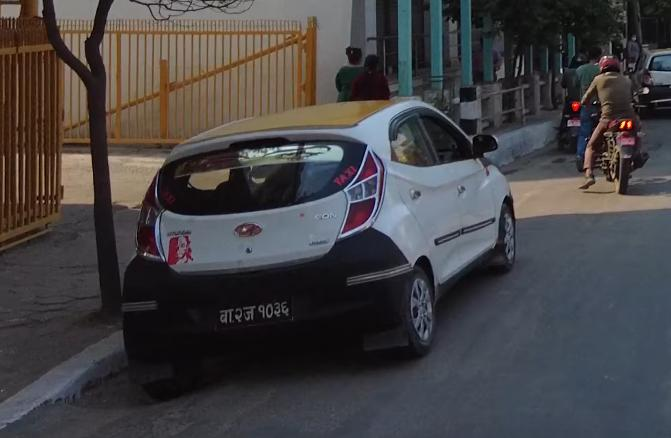bike: (587, 87, 654, 196)
taxi: (109, 87, 528, 395), (637, 41, 671, 114)
